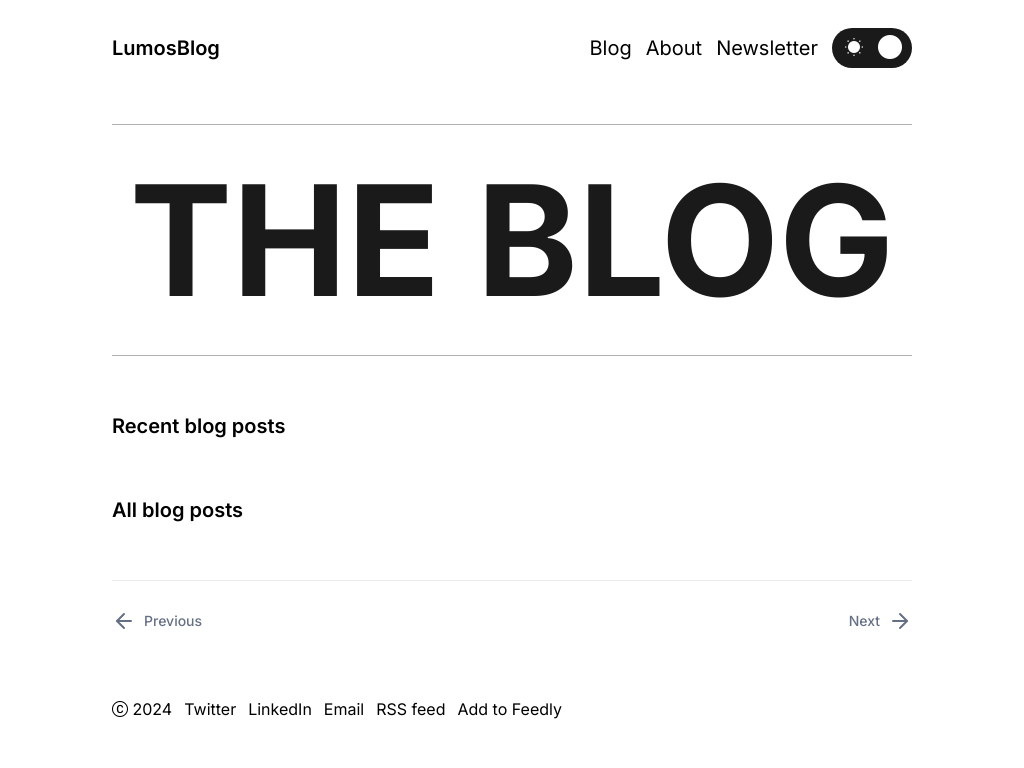
Test: Personal Blog Lumos › check nav link newsletter and display newsletter page
Step 1. Click the list item "Newsletter" → (767, 48), box 716,34 -> 818,62
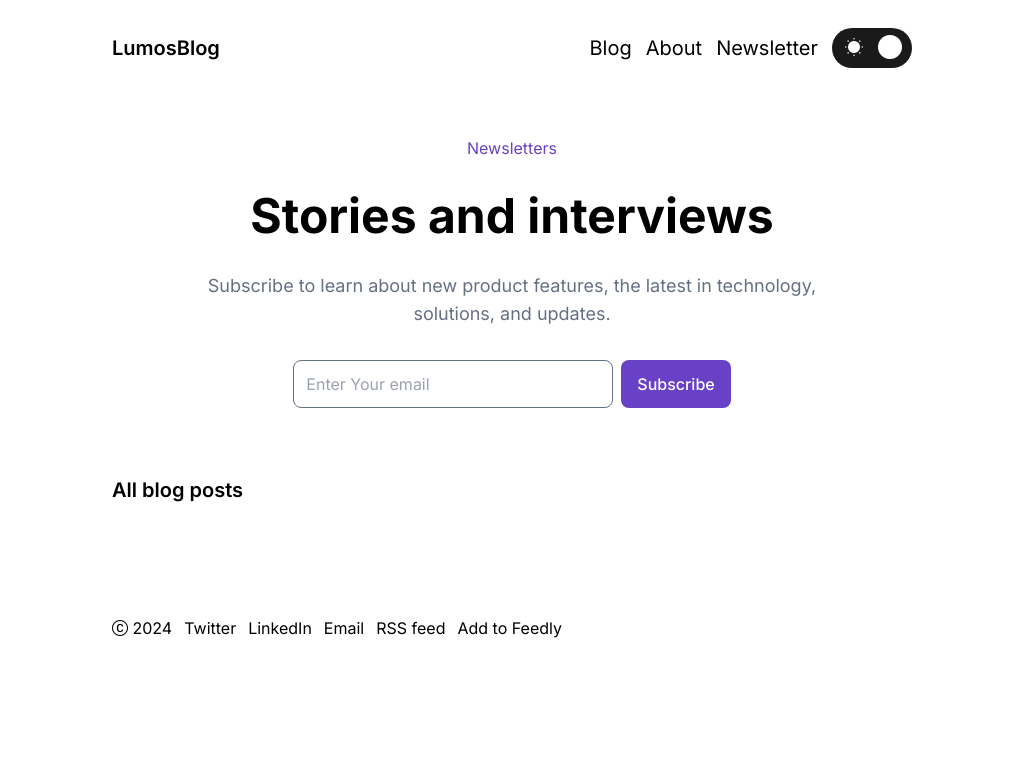
Expected: the element showing "LumosBlog Blog About Newsletter" is shown, 112,28 -> 912,68
Result: the element that starts with "Newsletters" is shown at 208,138 -> 816,408
